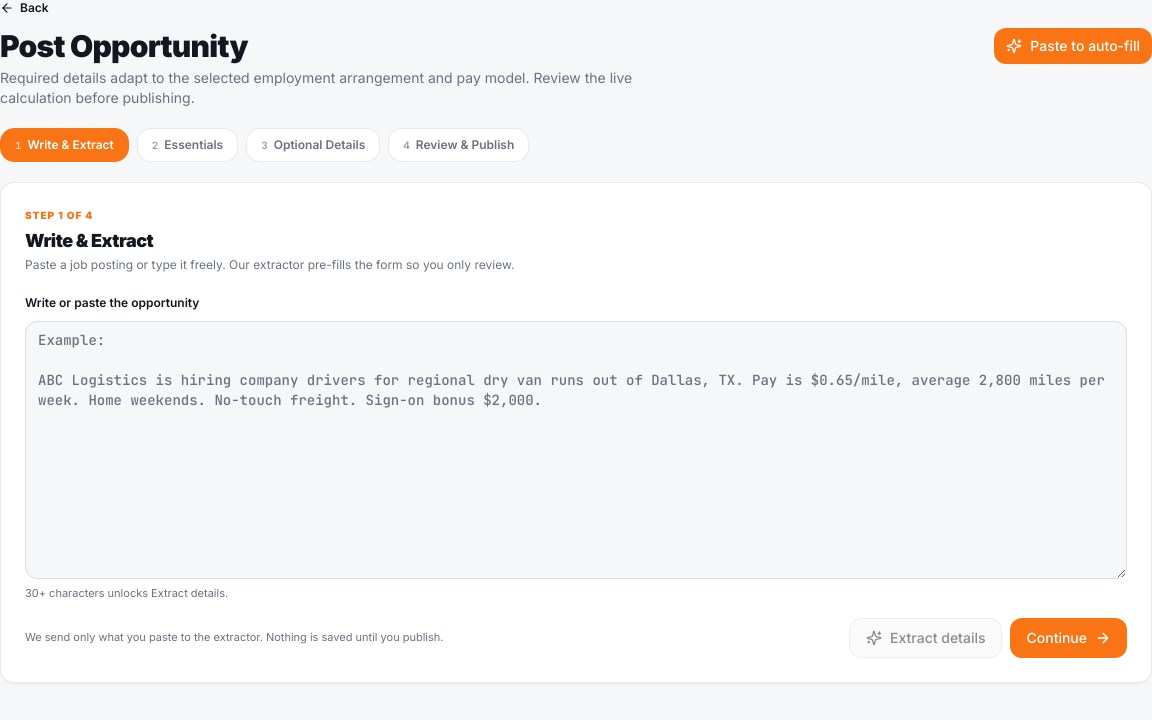
Test: Phase 1O-A — employment-driven cost visibility (Optional Details) › contractor exposes cost fields, fuel, and no lease payment
Click the tab "2Essentials" at (188, 145), box [137,128,238,162]
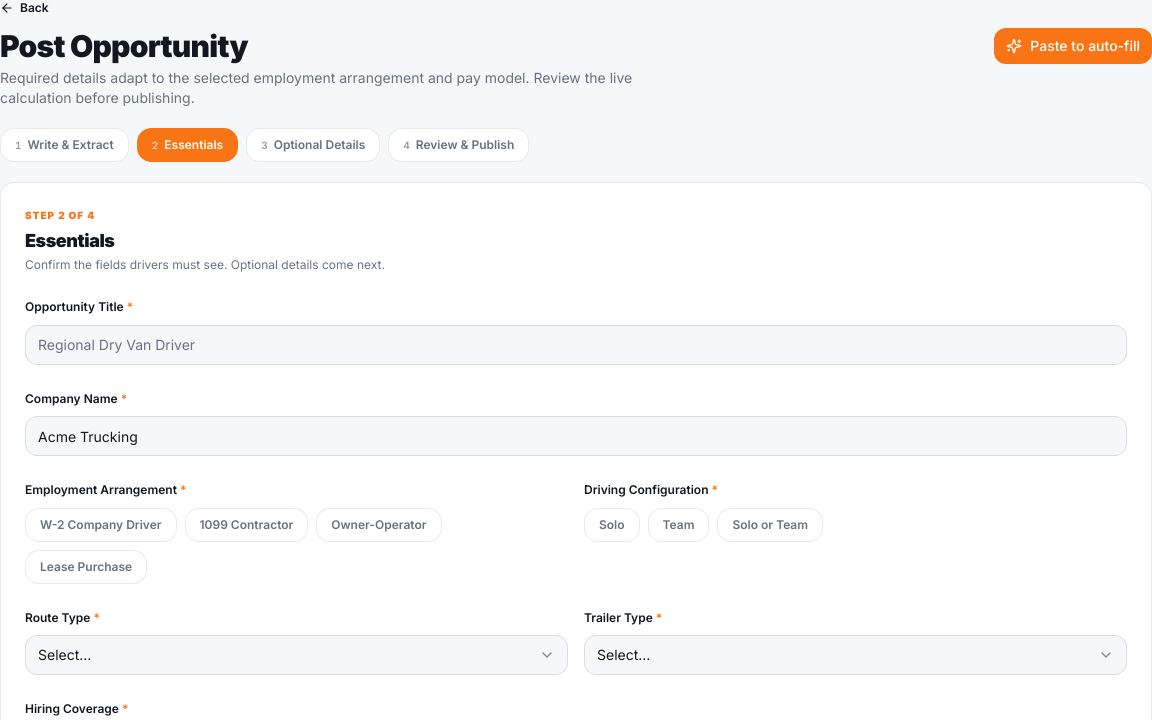
Click the button "1099 Contractor" at (246, 525), box [184,508,308,542]
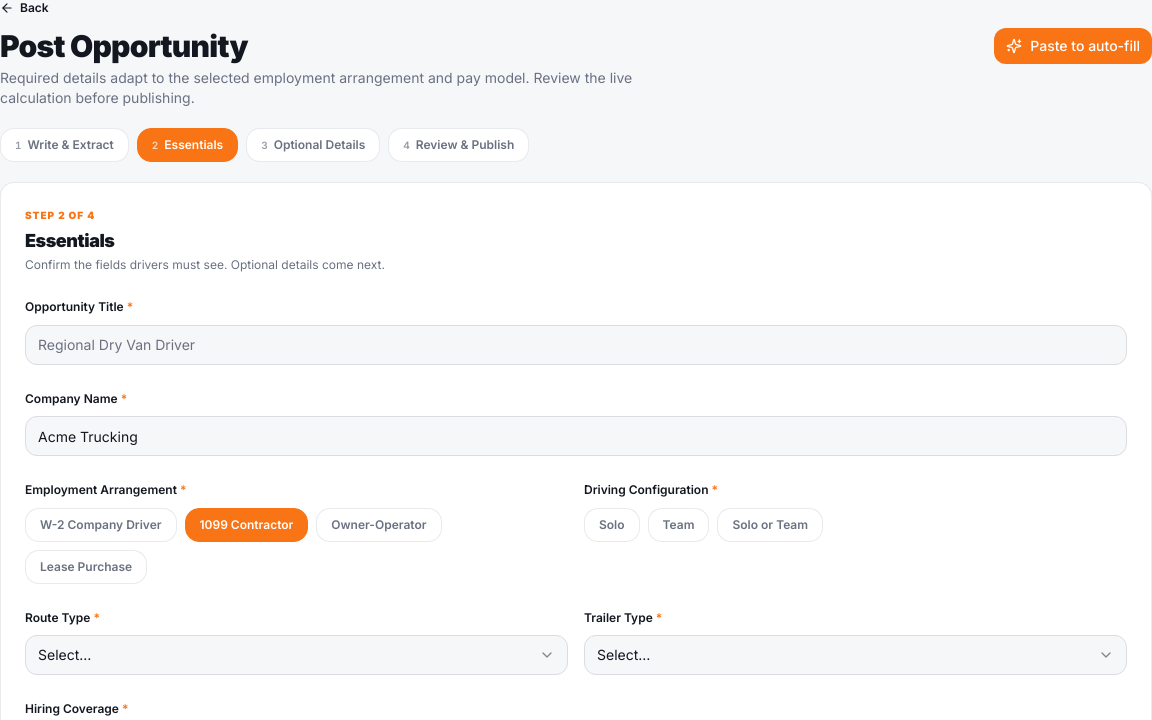
Click the tab "3Optional Details" at (313, 145), box [246,128,380,162]
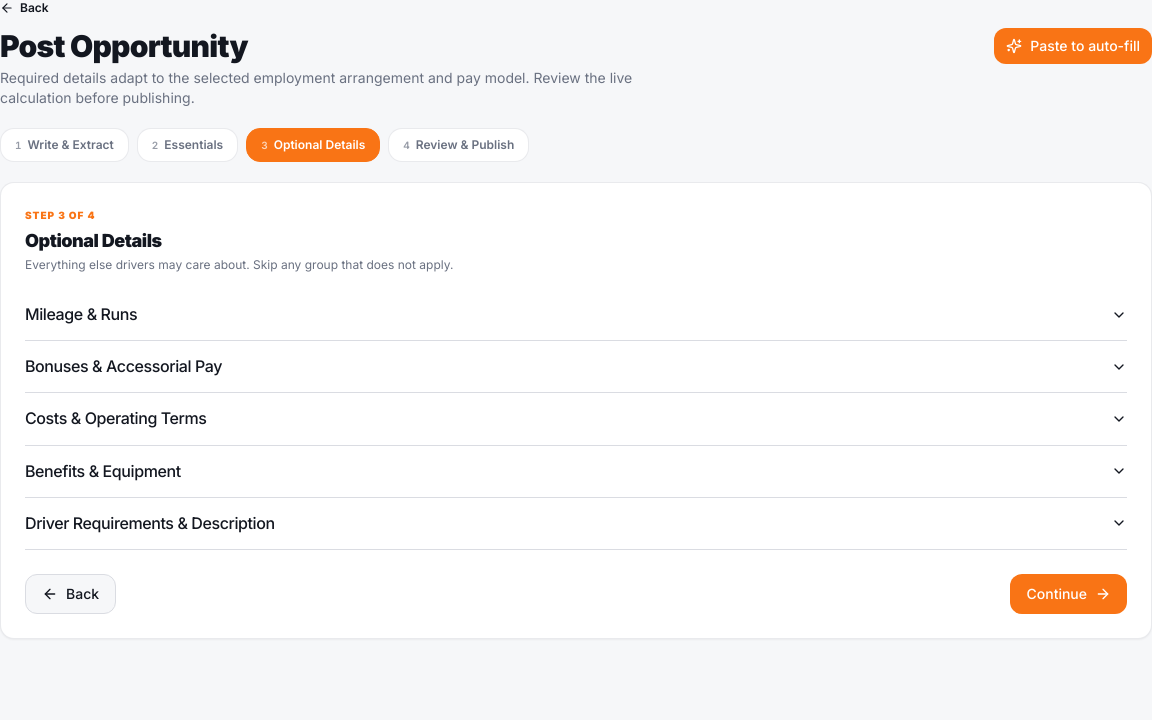
Click the button "Costs & Operating Terms" at (116, 418), box [25,393,1127,445]
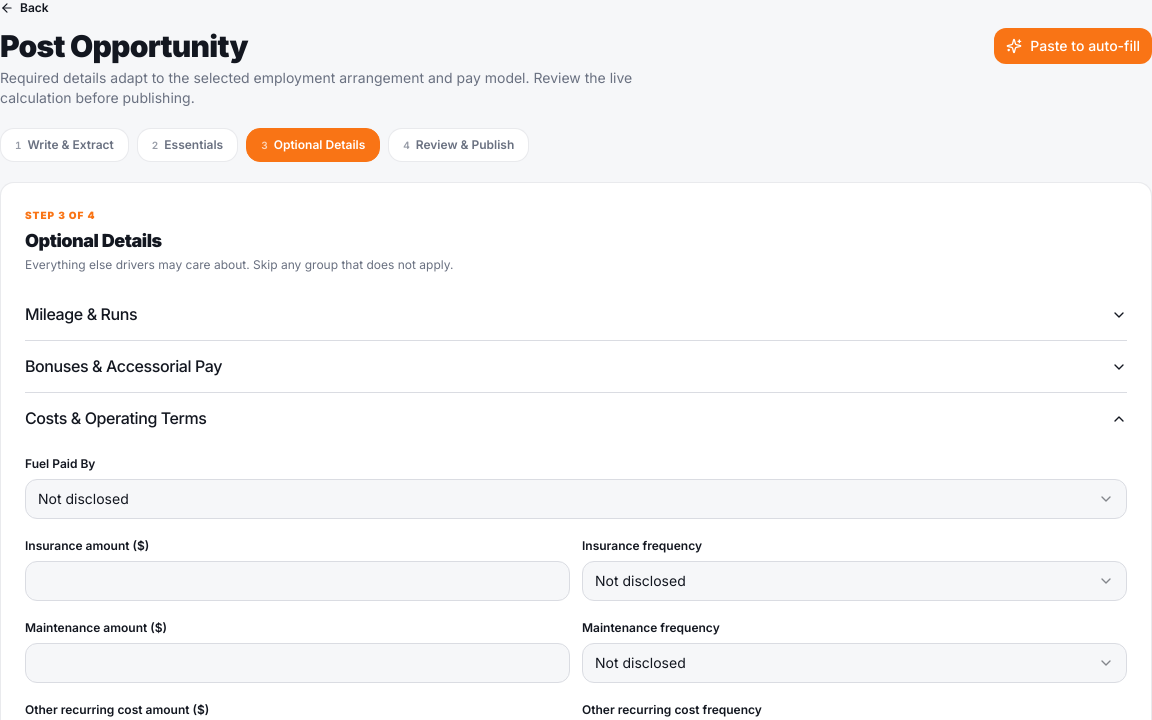
Now the dropdown named "Fuel Paid By" is shown, box [25,479,1127,519]
